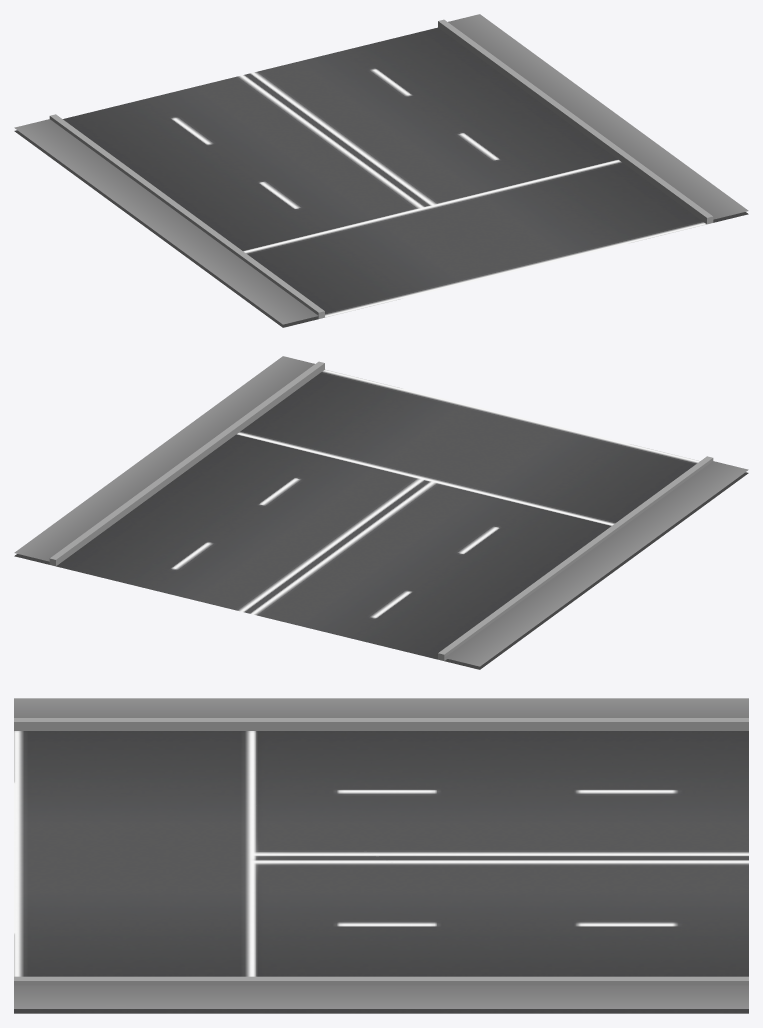
File: road_020.glb
3 views of the same model, one above another, from view 1: azimuth 30°, elevation 25°; view 2: azimuth 150°, elevation 25°; view 3: azimuth 270°, elevation 25° (orthographic). The views are drawn at different scales.
Visible parts, largest first — view 1: road_020; view 2: road_020; view 3: road_020.
Part boxes in pixels (left/top/right/bottom): road_020: left=14, top=14, right=748, bottom=327; road_020: left=14, top=356, right=748, bottom=669; road_020: left=14, top=698, right=748, bottom=1013.
Bounding box in the file's own units: 15 × 0.2 × 15.
Materials: 2 (2 with a texture image).
